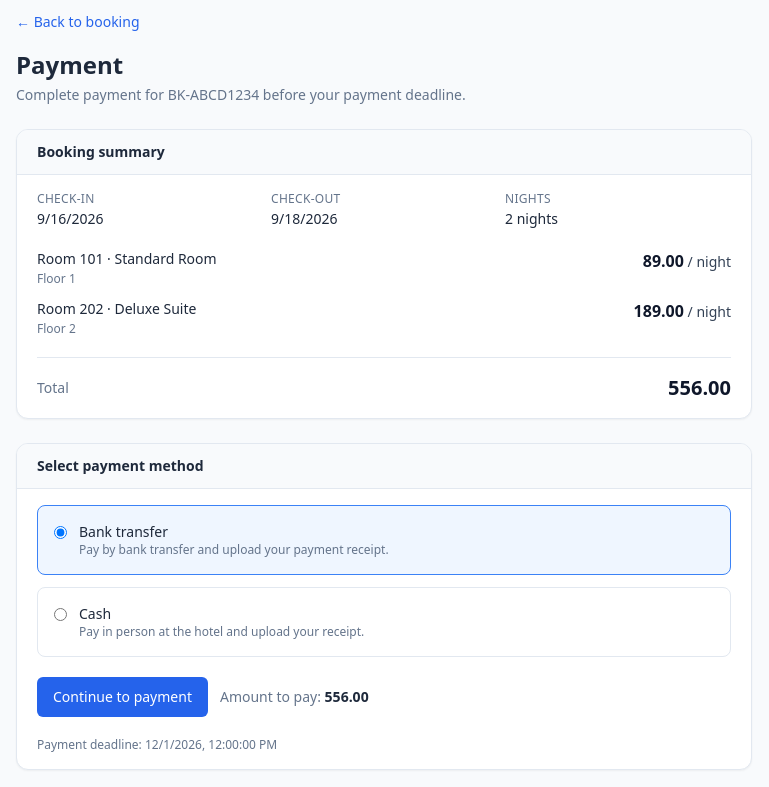
Test case: PaymentCreate page › disables the submit button while submitting
The width and height of the screenshot is (769, 787).
What coordinates should you click on to do the following:
click the button "Continue to payment"
I would click on:
 (122, 697)
Its box is x1=37 y1=677 x2=208 y2=717.
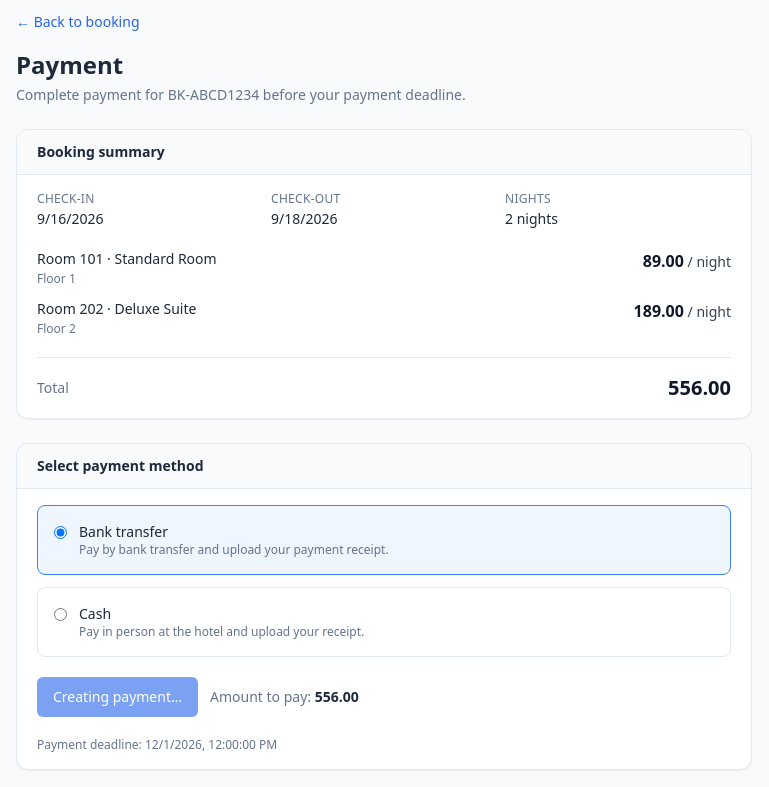
Check: the button "Creating payment…" is disabled, box x1=37 y1=677 x2=198 y2=717
